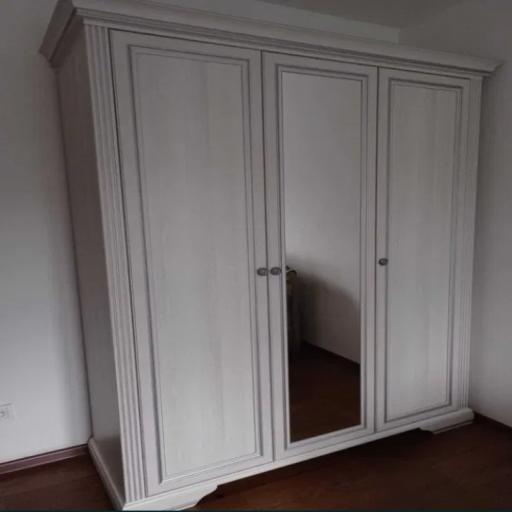bus: (41, 0, 497, 510)
